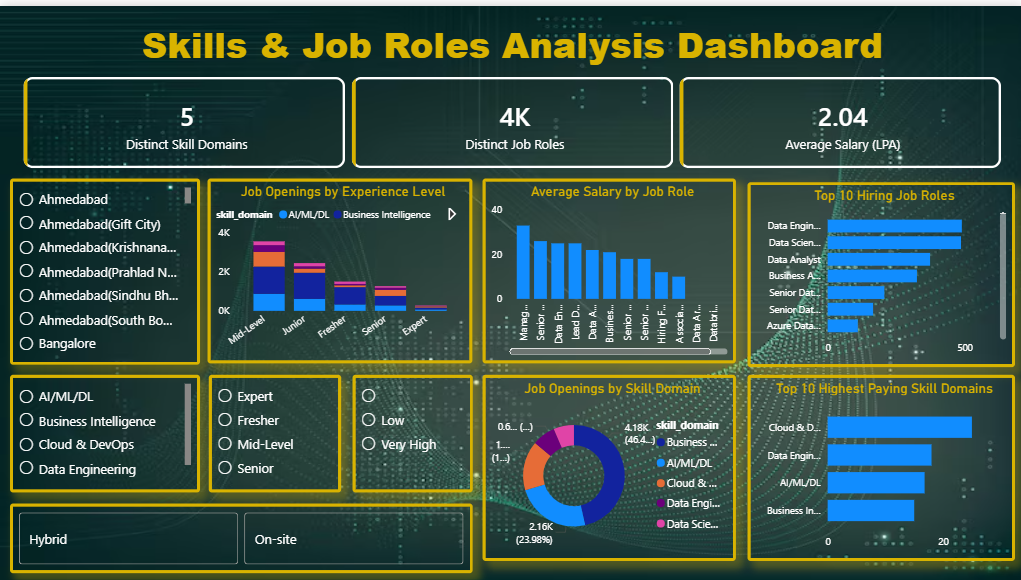

The dashboard page shown, as its layout file describes it:
{"tool":"powerbi","page":{"name":"Skills & Job Roles Analysis Dashboard","canvas":[1280,720],"ordinal":4},"visuals":[{"type":"textbox","title":"Skills & Job Roles Analysis Dashboard","box":[12.1,15.1,1256.1,90.6],"z":0},{"type":"cardVisual","fields":{"Data":["tech_jobs final_jobs_dataset.Distinct Skill Domains","tech_jobs final_jobs_dataset.Distinct Job Roles","tech_jobs final_jobs_dataset.Average Salary (LPA)"]},"box":[12.5,71.9,1256.2,148.4],"z":1000},{"type":"clusteredColumnChart","title":"Average Salary by Job Role","fields":{"Y":["Avg(tech_jobs final_jobs_dataset.salary_midpoint_lpa)"],"Category":["tech_jobs final_jobs_dataset.job_title"]},"box":[603.1,215.6,317.2,231.2],"z":2000},{"type":"listSlicer","title":"Top 10 Hiring Companies","fields":{"Values":["tech_jobs final_jobs_dataset.experience_group"]},"box":[260.9,460.9,165.6,146.9],"z":6000},{"type":"listSlicer","title":"Top 10 Hiring Companies","fields":{"Values":["tech_jobs final_jobs_dataset.primary_city"]},"box":[12.5,215.6,237.5,232.8],"z":7000},{"type":"listSlicer","title":"Top 10 Hiring Companies","fields":{"Values":["tech_jobs final_jobs_dataset.skill_domain"]},"box":[12.5,460.9,237.5,146.9],"z":8000},{"type":"listSlicer","title":"Top 10 Hiring Companies","fields":{"Values":["tech_jobs final_jobs_dataset.salary_category"]},"box":[440.6,460.9,150,146.9],"z":9000},{"type":"advancedSlicerVisual","title":"Top 10 Hiring Companies","fields":{"Values":["tech_jobs final_jobs_dataset.work_mode"]},"box":[12.5,621.9,578.1,87.5],"z":10000},{"type":"columnChart","title":"Job Openings by Experience Level","fields":{"Category":["tech_jobs final_jobs_dataset.experience_group"],"Y":["CountNonNull(tech_jobs final_jobs_dataset.job_id)"],"Series":["tech_jobs final_jobs_dataset.skill_domain"]},"box":[259.4,215.6,331.2,231.2],"z":11000},{"type":"clusteredBarChart","title":"Top 10 Hiring Job Roles","fields":{"Y":["CountNonNull(tech_jobs final_jobs_dataset.job_id)"],"Category":["tech_jobs final_jobs_dataset.job_title"]},"box":[934.4,220.3,334.4,231.2],"z":12000},{"type":"clusteredBarChart","title":"Top 10 Highest Paying Skill Domains","fields":{"Y":["Avg(tech_jobs final_jobs_dataset.salary_midpoint_lpa)"],"Category":["tech_jobs final_jobs_dataset.skill_domain"]},"box":[934.4,460.9,334.4,232.8],"z":13000},{"type":"donutChart","title":"Job Openings by Skill Domain","fields":{"Y":["CountNonNull(tech_jobs final_jobs_dataset.job_id)"],"Category":["tech_jobs final_jobs_dataset.skill_domain"]},"box":[603.1,460.9,317.2,232.8],"z":13001}]}

Visuals, with their boxes in screenshot pixels (x1, y1, x2, y2), scaled from the page's 1280x720 canvas onto the 1021x580 screenshot:
"Skills & Job Roles Analysis Dashboard" textbox: pyautogui.locateOnScreen(10, 12, 1012, 85)
cardVisual - tech_jobs final_jobs_dataset.Distinct Skill Domains x tech_jobs final_jobs_dataset.Distinct Job Roles: pyautogui.locateOnScreen(10, 58, 1012, 177)
"Average Salary by Job Role" clusteredColumnChart: pyautogui.locateOnScreen(481, 174, 734, 360)
"Top 10 Hiring Companies" listSlicer: pyautogui.locateOnScreen(208, 371, 340, 490)
"Top 10 Hiring Companies" listSlicer: pyautogui.locateOnScreen(10, 174, 199, 361)
"Top 10 Hiring Companies" listSlicer: pyautogui.locateOnScreen(10, 371, 199, 490)
"Top 10 Hiring Companies" listSlicer: pyautogui.locateOnScreen(351, 371, 471, 490)
"Top 10 Hiring Companies" advancedSlicerVisual: pyautogui.locateOnScreen(10, 501, 471, 571)
"Job Openings by Experience Level" columnChart: pyautogui.locateOnScreen(207, 174, 471, 360)
"Top 10 Hiring Job Roles" clusteredBarChart: pyautogui.locateOnScreen(745, 177, 1012, 364)
"Top 10 Highest Paying Skill Domains" clusteredBarChart: pyautogui.locateOnScreen(745, 371, 1012, 559)
"Job Openings by Skill Domain" donutChart: pyautogui.locateOnScreen(481, 371, 734, 559)
